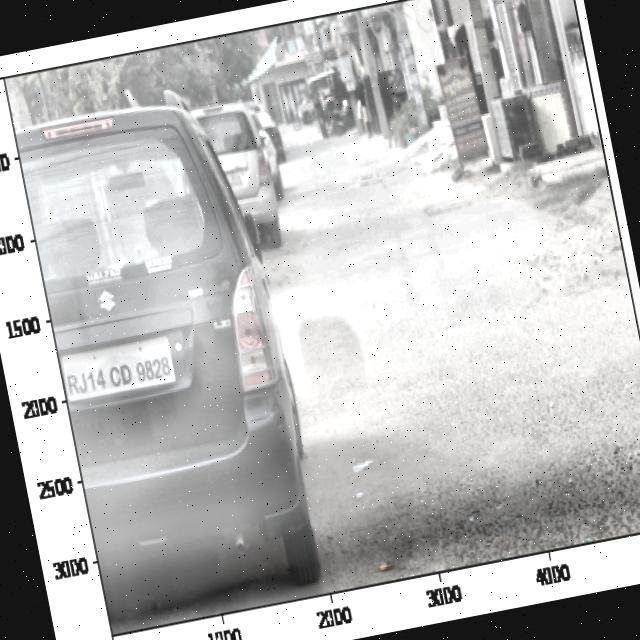license_plate: (59, 336, 180, 409)
